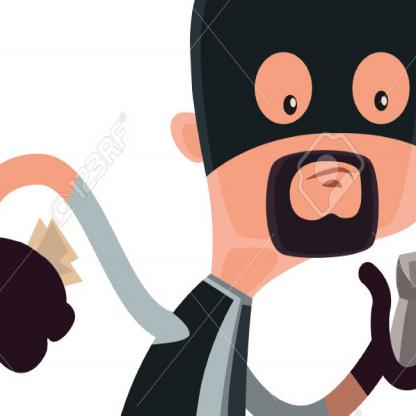gun: (351, 208, 415, 401)
